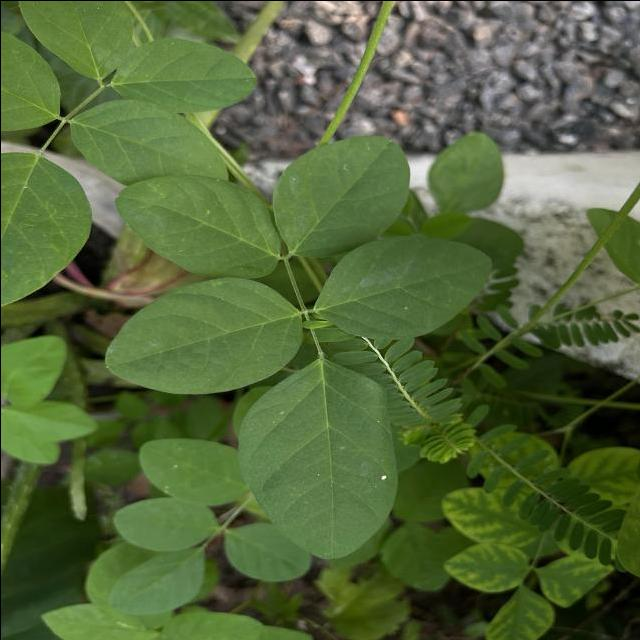Clitoria ternatea: (234, 354, 399, 561), (100, 274, 304, 396), (311, 232, 494, 342), (113, 172, 282, 280), (269, 133, 412, 258), (66, 98, 230, 184), (106, 34, 261, 114)
